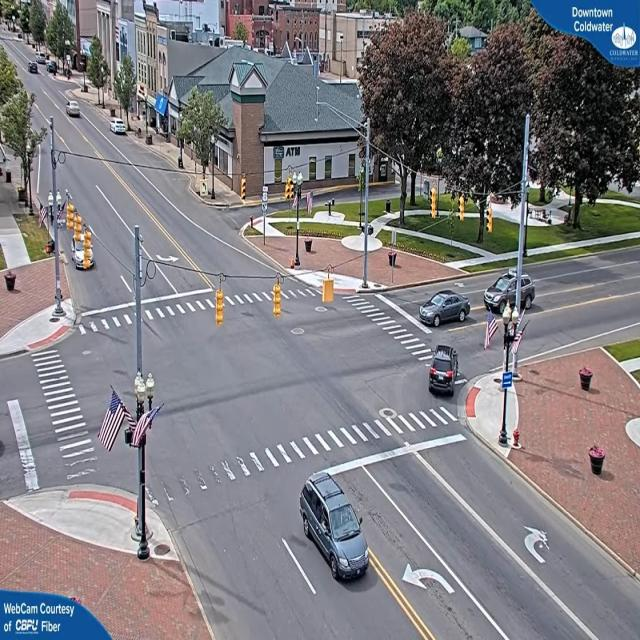car: (299, 474, 368, 584), (418, 289, 471, 328), (487, 268, 533, 312), (428, 345, 462, 396), (111, 119, 129, 136), (66, 100, 82, 118)
